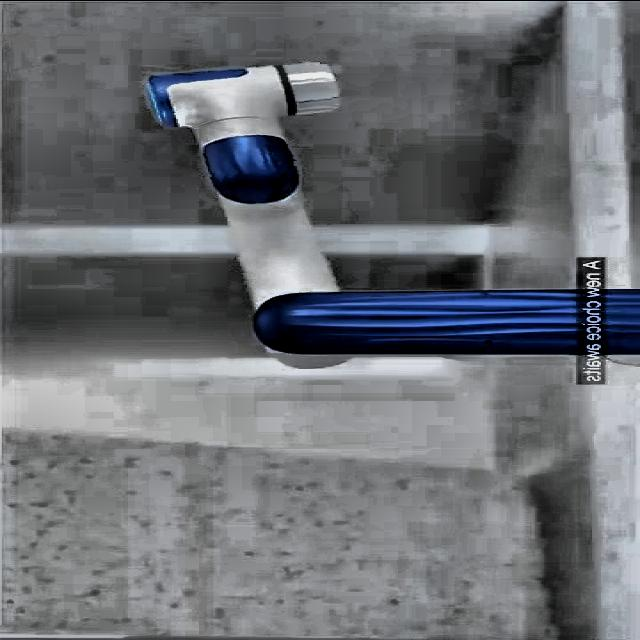robot: (143, 60, 636, 361)
